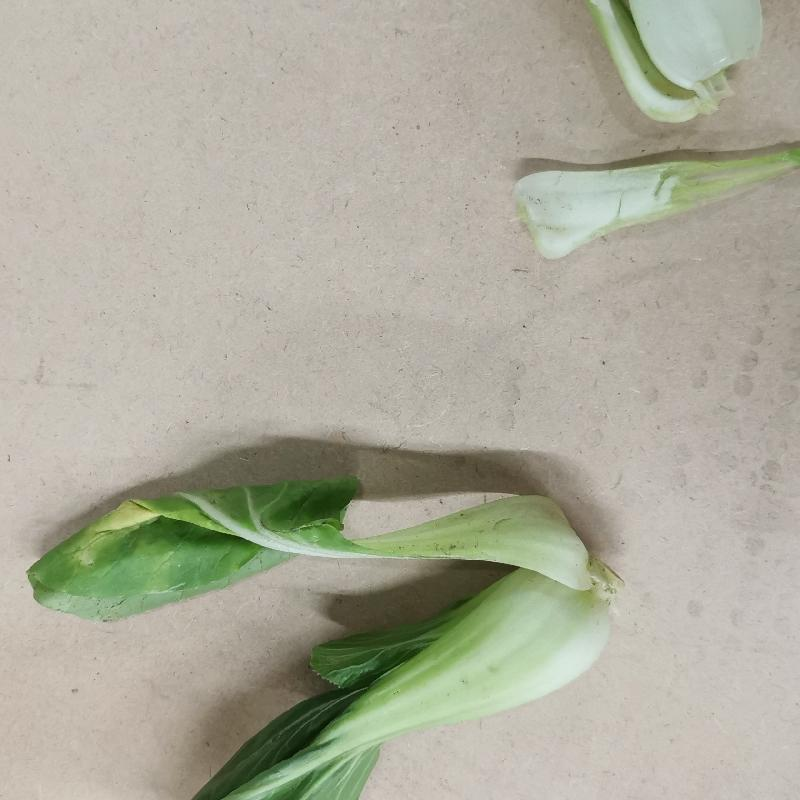green vegatable: (13, 475, 636, 800)
